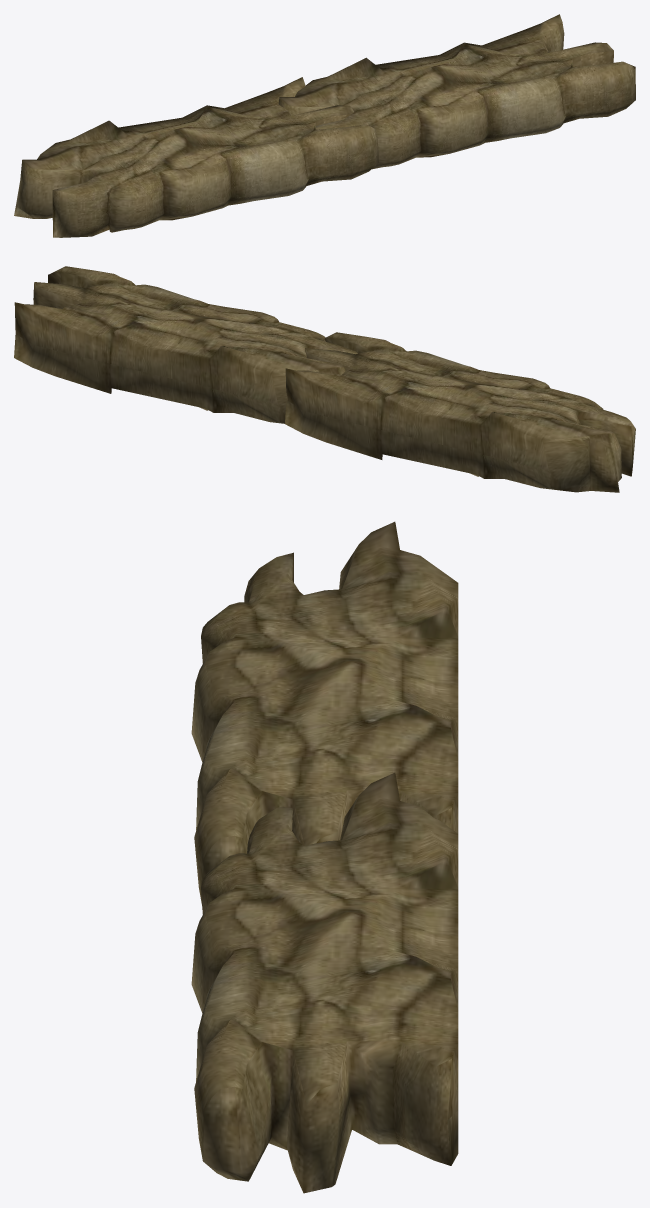
Rendered from military_sandbag_desert_longsection.glb.
The picture shows the model from 3 angles, top to bottom: view 1: azimuth 30°, elevation 25°; view 2: azimuth 150°, elevation 25°; view 3: azimuth 270°, elevation 25°; orthographic projection. The views are drawn at different scales.
Bounding box in the file's own units: 169 × 22.14 × 33.47.
Materials: 1 (1 with a texture image).
